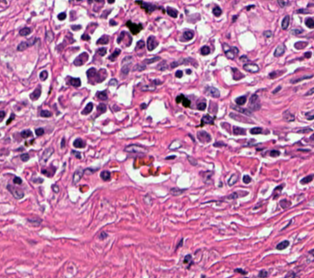nucleus: (136, 1, 164, 13), (86, 67, 106, 83), (17, 37, 37, 50), (223, 43, 238, 59), (170, 58, 196, 67), (7, 184, 23, 198), (125, 144, 147, 154), (126, 21, 142, 34), (73, 52, 88, 65), (121, 56, 131, 74), (249, 94, 260, 110), (231, 105, 250, 114), (73, 167, 83, 183), (197, 130, 210, 142), (147, 36, 158, 50), (42, 147, 53, 161), (30, 85, 40, 100), (142, 56, 160, 64), (243, 63, 259, 72), (81, 102, 93, 114), (206, 86, 219, 97), (229, 113, 246, 121), (227, 191, 246, 198), (108, 49, 120, 60), (27, 216, 41, 225), (181, 30, 193, 40), (201, 114, 213, 124), (228, 173, 238, 185), (170, 187, 185, 195), (67, 77, 80, 86), (166, 7, 177, 17), (274, 45, 284, 56), (232, 68, 242, 79), (73, 138, 85, 147), (41, 168, 54, 176), (100, 170, 110, 180), (156, 61, 167, 70), (96, 91, 107, 100), (235, 96, 246, 105), (197, 99, 206, 110), (20, 129, 31, 138), (269, 71, 283, 78), (96, 35, 108, 43), (233, 126, 245, 134), (169, 140, 181, 148), (212, 6, 221, 16), (135, 40, 144, 50), (19, 27, 30, 35), (97, 103, 105, 114), (133, 63, 145, 70), (187, 156, 196, 165), (45, 31, 53, 41), (96, 47, 106, 55), (39, 70, 47, 80), (181, 96, 189, 106), (6, 114, 14, 124), (200, 46, 209, 54), (20, 153, 29, 161), (98, 231, 107, 239), (40, 110, 51, 116), (250, 127, 261, 133), (57, 12, 65, 20), (240, 55, 248, 63), (72, 150, 80, 158), (13, 176, 21, 184), (176, 94, 183, 103), (213, 141, 225, 146), (263, 30, 271, 37), (35, 128, 43, 135), (243, 175, 250, 183), (270, 150, 279, 156), (175, 70, 182, 77), (273, 86, 280, 93), (81, 34, 89, 40), (109, 79, 117, 85), (152, 80, 161, 85), (52, 185, 58, 192), (177, 239, 182, 247), (71, 25, 80, 29), (0, 110, 4, 119), (166, 155, 175, 159), (33, 178, 42, 182), (110, 20, 116, 25), (247, 5, 254, 9), (61, 138, 64, 147), (101, 12, 105, 17), (186, 69, 191, 73), (141, 104, 145, 108), (107, 10, 110, 13)
